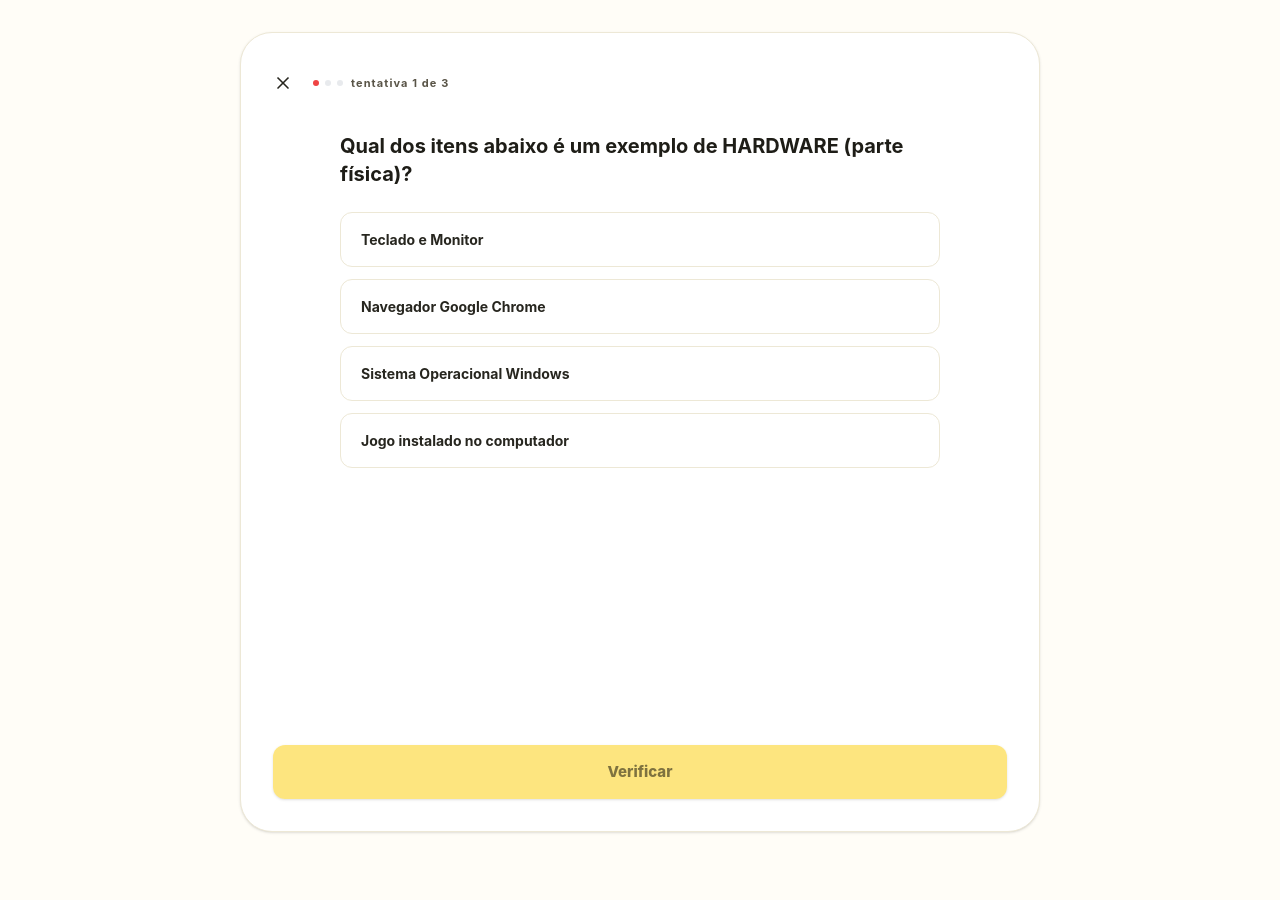
Scenario: Fase 4 — Question Engine & Máquina de 3 Tentativas › 5. LessonSession & Atomic Question Transitions › trocar de lição limpa a sessão anterior
The width and height of the screenshot is (1280, 900).
Expected: the button "Teclado e Monitor" is shown, [340,212,940,267]
// Exit to trail
Click the button named "fechar" at (283, 83), box [265,65,301,101]
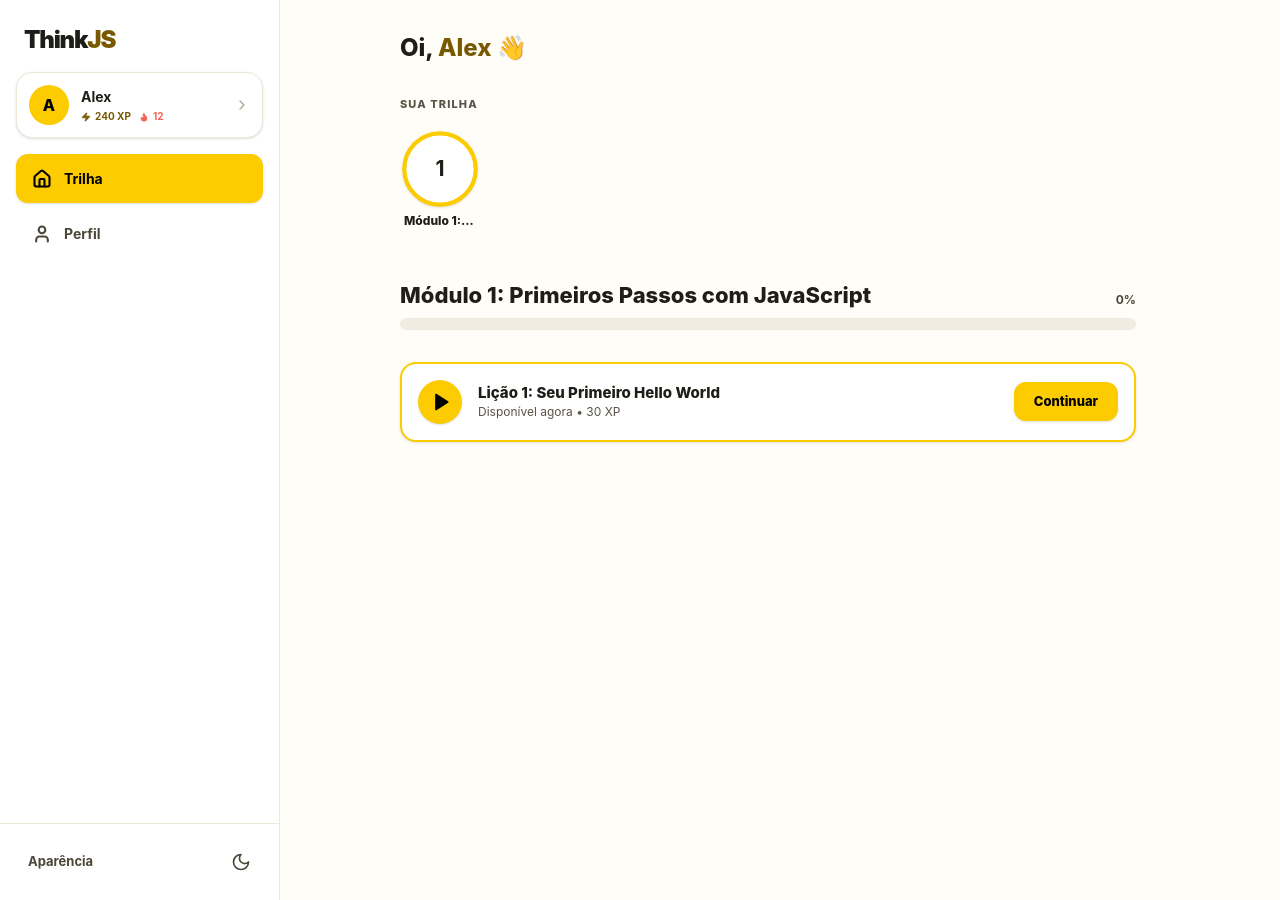
Expected: the heading "Sua Trilha" is shown, [400,97,478,111]
